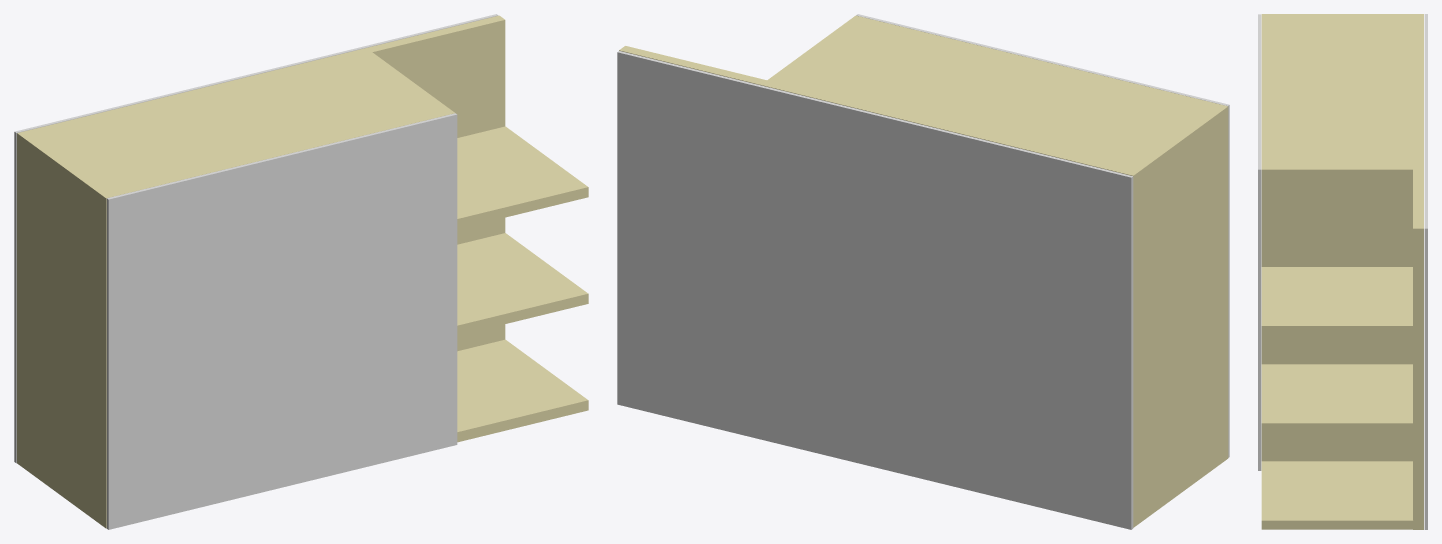
Rendered from overheadcabinet.fbx.
The picture shows the model from 3 angles, left to right: view 1: azimuth 30°, elevation 25°; view 2: azimuth 150°, elevation 25°; view 3: azimuth 270°, elevation 25°; orthographic projection. The views are drawn at different scales.
Visible parts, largest first — view 1: Plane.011, Plane.010, Plane.004, Plane.009; view 2: Plane.009, Plane.010, Plane.011; view 3: Plane.010, Plane.004, Plane.009, Plane.011.
Boxes of the visible parts, x1,y1,x2,y2 form: Plane.011: (106,113,457,529); Plane.010: (17,15,505,528); Plane.004: (457,126,588,442); Plane.009: (14,14,498,463); Plane.009: (617,51,1133,529); Plane.010: (619,15,1228,527); Plane.011: (856,14,1229,457); Plane.010: (1261,14,1423,529); Plane.004: (1261,267,1413,529); Plane.009: (1424,14,1427,529); Plane.011: (1258,14,1261,470).
Bounding box in the file's own units: 493 × 322 × 165.
